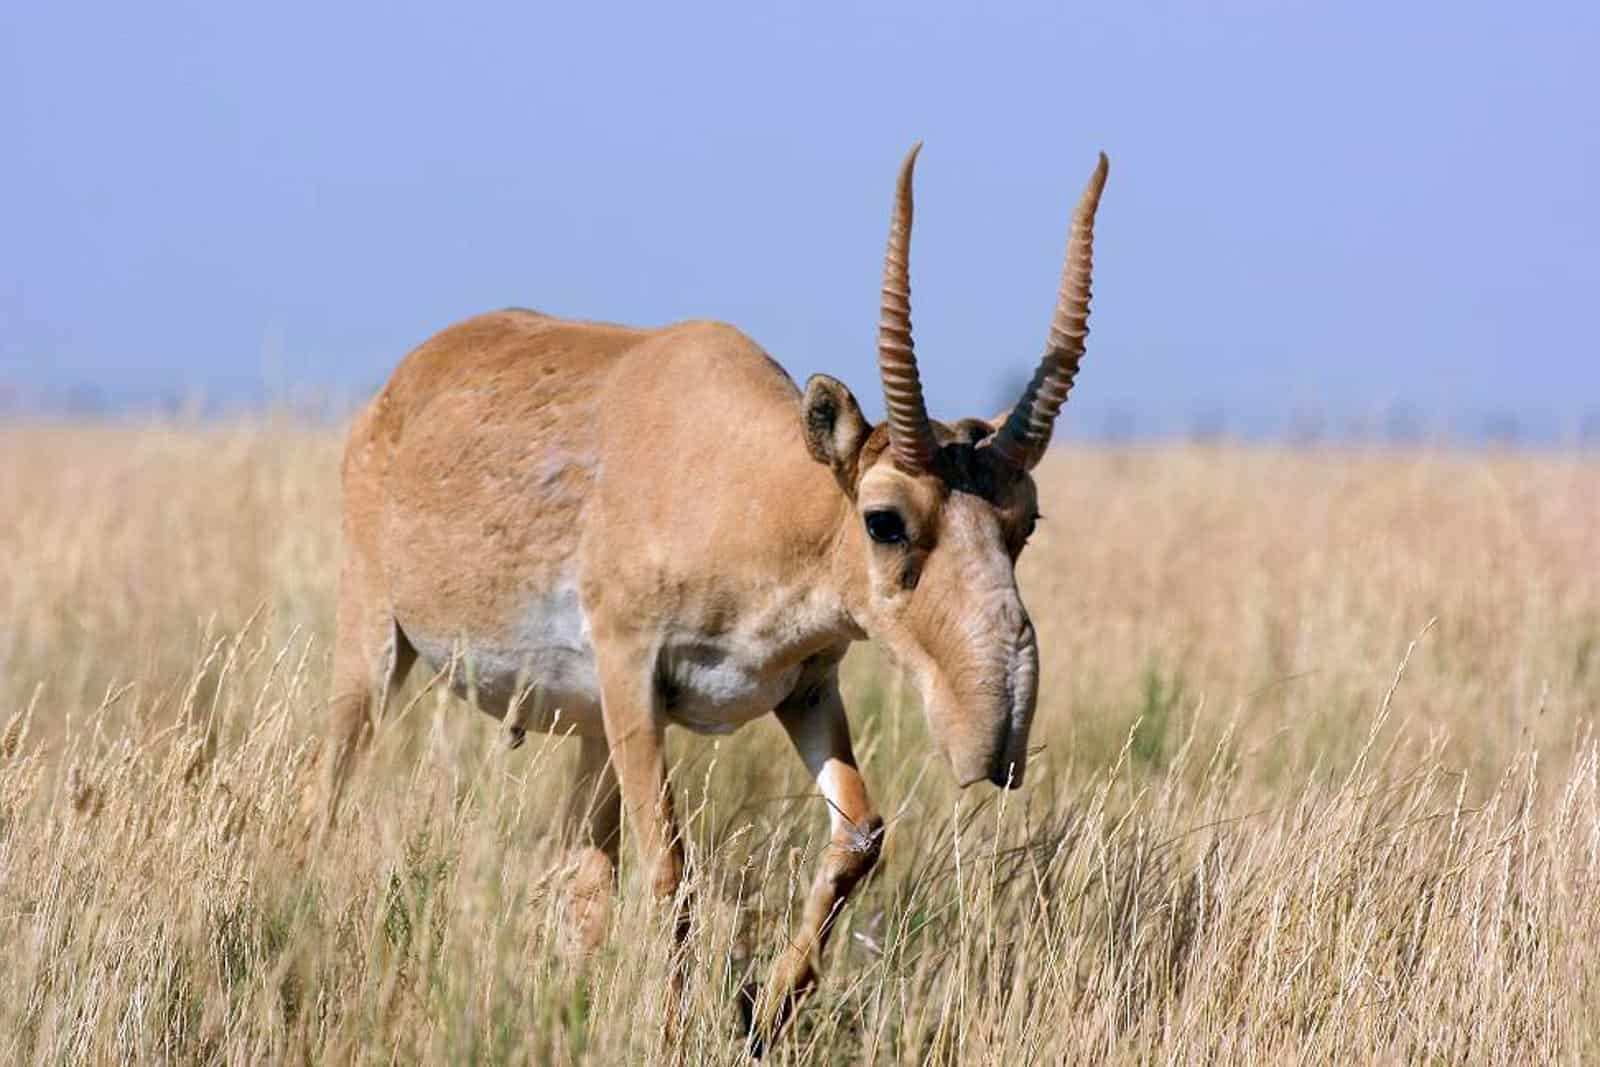saiga: (299, 141, 1132, 1036)
